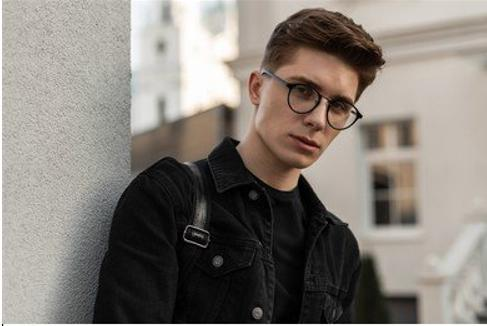Sober: (268, 52, 352, 155)
